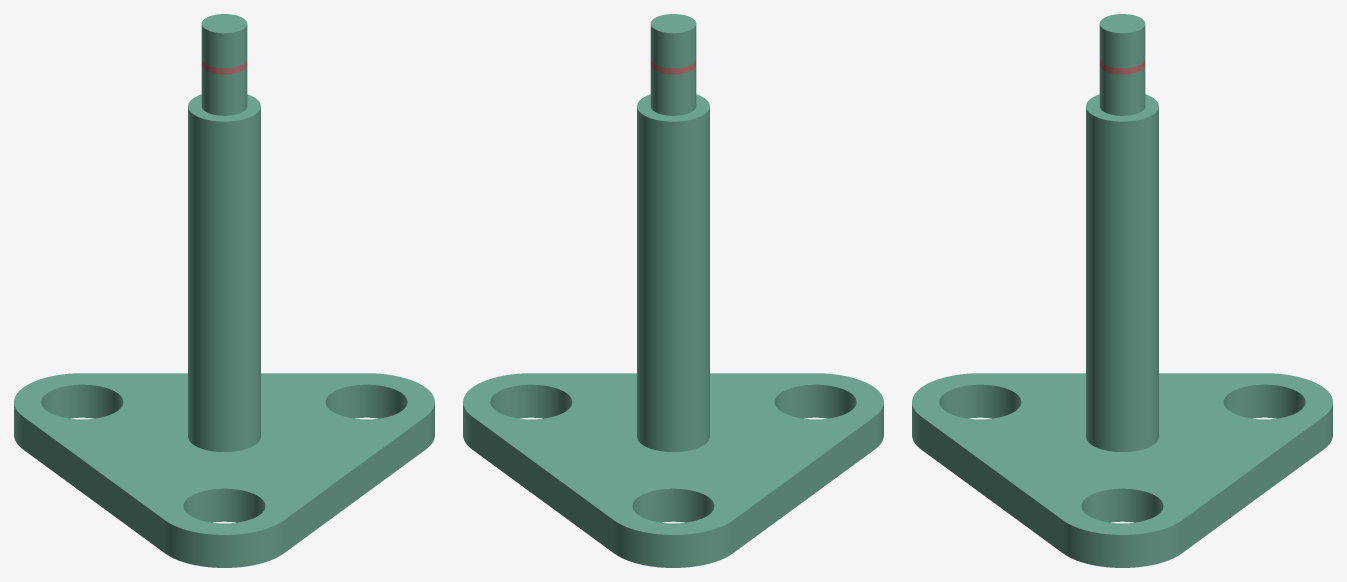
Rendered from step_17.glb.
3 views of the same model, side by side, from view 1: azimuth 30°, elevation 25°; view 2: azimuth 150°, elevation 25°; view 3: azimuth 270°, elevation 25° (orthographic).
Visible parts, largest first — view 1: part__carrier; view 2: part__carrier; view 3: part__carrier.
Boxes of the visible parts, x1,y1,x2,y2 form: part__carrier: (14,14,434,567); part__carrier: (463,14,883,567); part__carrier: (912,14,1332,567).
Bounding box in the file's own units: 41.99 × 54 × 46.17.
